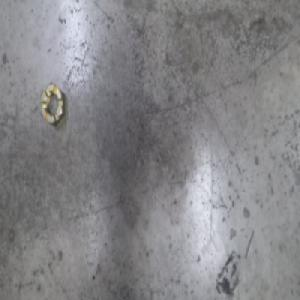Nut: (39, 79, 67, 128)
